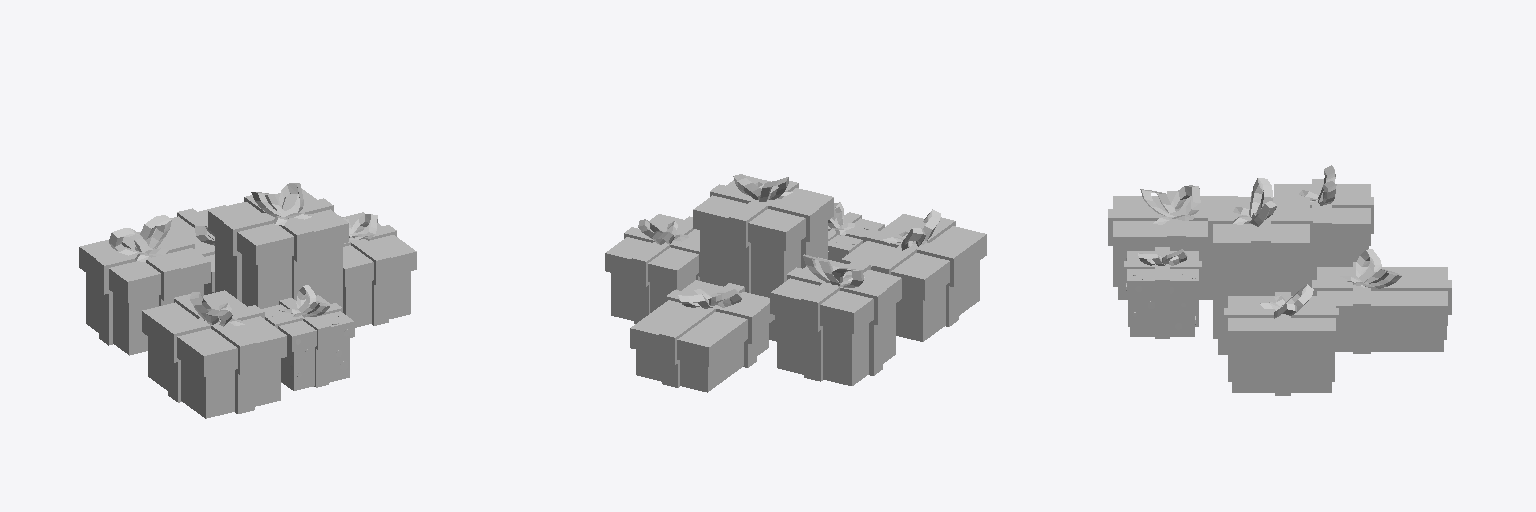
3 renders of one model, left to right at view 1: azimuth 30°, elevation 25°; view 2: azimuth 150°, elevation 25°; view 3: azimuth 270°, elevation 25°, orthographic.
Parts seen in each view (by area): view 1: group[number redacted], group[number redacted], group[number redacted], group[number redacted], group[number redacted], group[number redacted], group[number redacted], group[number redacted], group[number redacted], group[number redacted], group[number redacted], group[number redacted] (+16 smaller); view 2: group[number redacted], group[number redacted], group[number redacted], group[number redacted], group[number redacted], group[number redacted], group[number redacted], group[number redacted], group[number redacted], group[number redacted], group[number redacted], group[number redacted] (+15 smaller); view 3: group[number redacted], group[number redacted], group[number redacted], group[number redacted], group[number redacted], group[number redacted], group[number redacted], group[number redacted], group[number redacted], group[number redacted], group[number redacted], group[number redacted] (+18 smaller).
Boxes of the visible parts, <box> form: group[number redacted]: <box>142,290,286,376</box>; group[number redacted]: <box>215,235,342,308</box>; group[number redacted]: <box>208,188,348,264</box>; group[number redacted]: <box>148,337,280,418</box>; group[number redacted]: <box>79,228,210,302</box>; group[number redacted]: <box>86,273,203,355</box>; group[number redacted]: <box>343,212,416,286</box>; group[number redacted]: <box>343,271,410,327</box>; group[number redacted]: <box>281,338,349,390</box>; group[number redacted]: <box>95,237,194,345</box>; group[number redacted]: <box>261,295,354,351</box>; group[number redacted]: <box>174,294,256,374</box>; group[number redacted]: <box>630,280,774,366</box>; group[number redacted]: <box>777,304,895,385</box>; group[number redacted]: <box>841,214,986,300</box>; group[number redacted]: <box>693,175,833,250</box>; group[number redacted]: <box>700,221,827,341</box>; group[number redacted]: <box>770,257,901,333</box>; group[number redacted]: <box>605,214,699,288</box>; group[number redacted]: <box>896,261,979,341</box>; group[number redacted]: <box>636,324,768,392</box>; group[number redacted]: <box>801,261,870,381</box>; group[number redacted]: <box>787,267,887,375</box>; group[number redacted]: <box>611,273,695,320</box>; group[number redacted]: <box>1317,267,1447,325</box>; group[number redacted]: <box>1213,197,1309,261</box>; group[number redacted]: <box>1228,296,1335,349</box>; group[number redacted]: <box>1232,350,1331,392</box>; group[number redacted]: <box>1113,196,1237,257</box>; group[number redacted]: <box>1218,262,1304,354</box>; group[number redacted]: <box>1274,184,1370,245</box>; group[number redacted]: <box>1335,326,1443,351</box>; group[number redacted]: <box>1130,297,1194,336</box>; group[number redacted]: <box>1127,251,1198,296</box>; group[number redacted]: <box>1312,179,1331,279</box>; group[number redacted]: <box>1140,185,1200,224</box>.
Size of the model in its own units: 2.62 by 1.33 by 2.81.